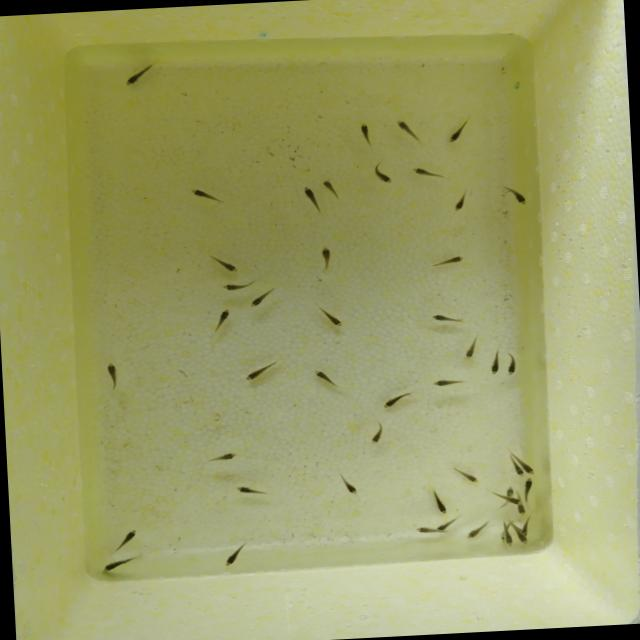fingerling: (238, 356, 288, 386), (312, 295, 349, 333), (331, 467, 363, 501), (218, 542, 254, 572), (122, 61, 160, 89), (198, 448, 251, 468), (185, 185, 231, 208), (203, 306, 236, 338), (309, 364, 344, 394), (362, 416, 392, 450), (207, 252, 242, 278), (110, 525, 146, 550), (394, 116, 424, 146), (227, 481, 274, 500), (98, 553, 138, 575), (446, 462, 482, 486), (424, 253, 472, 270), (300, 181, 323, 216), (503, 182, 531, 210), (426, 486, 452, 516), (409, 165, 452, 183), (445, 190, 473, 216), (429, 310, 468, 328), (447, 118, 472, 146), (366, 161, 394, 186), (217, 278, 260, 294), (242, 290, 276, 310), (356, 120, 378, 150), (464, 520, 490, 544), (106, 359, 123, 395), (380, 391, 412, 410), (460, 332, 480, 362), (316, 242, 336, 272), (322, 175, 342, 203), (429, 376, 464, 391), (406, 524, 436, 540), (502, 352, 518, 378), (487, 351, 503, 376), (437, 518, 462, 532), (502, 520, 514, 548), (514, 527, 528, 546), (522, 478, 536, 496), (505, 496, 523, 507), (512, 466, 525, 478), (524, 464, 537, 476), (516, 506, 528, 517), (504, 486, 517, 496)
